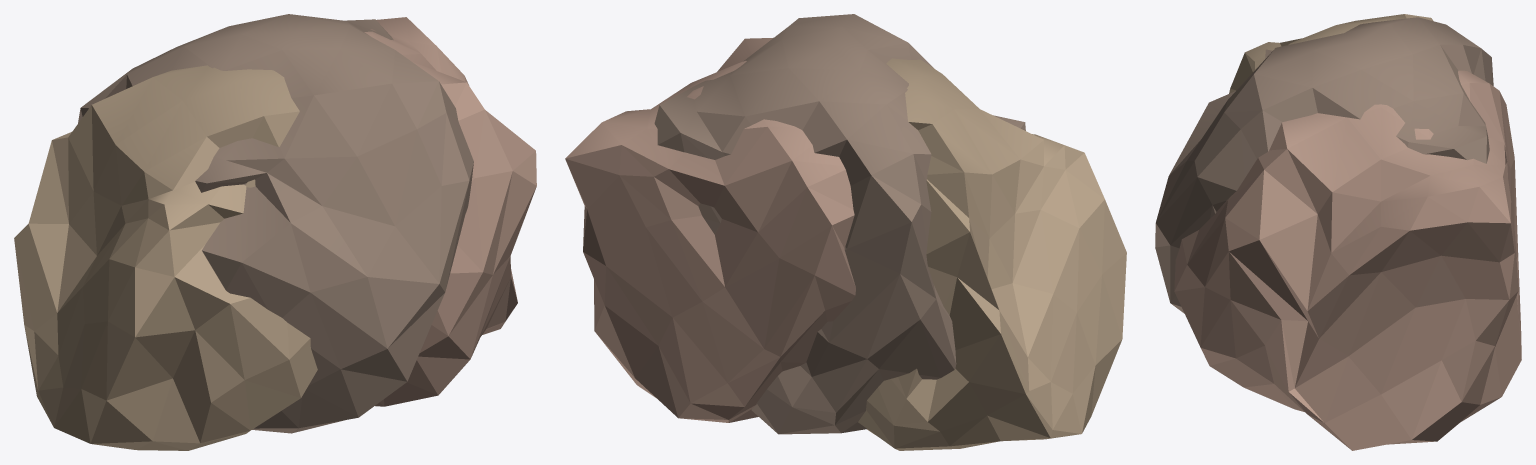
Rendered from Granit_2.fbx.
The picture shows the model from 3 angles, left to right: view 1: azimuth 30°, elevation 25°; view 2: azimuth 150°, elevation 25°; view 3: azimuth 270°, elevation 25°; orthographic projection. The views are drawn at different scales.
Parts seen in each view (by area): view 1: Granit_2; view 2: Granit_2; view 3: Granit_2.
Boxes of the visible parts, x1,y1,x2,y2 form: Granit_2: (14,14,536,450); Granit_2: (565,14,1126,450); Granit_2: (1155,14,1521,450).
Bounding box in the file's own units: 162 × 125 × 121.
